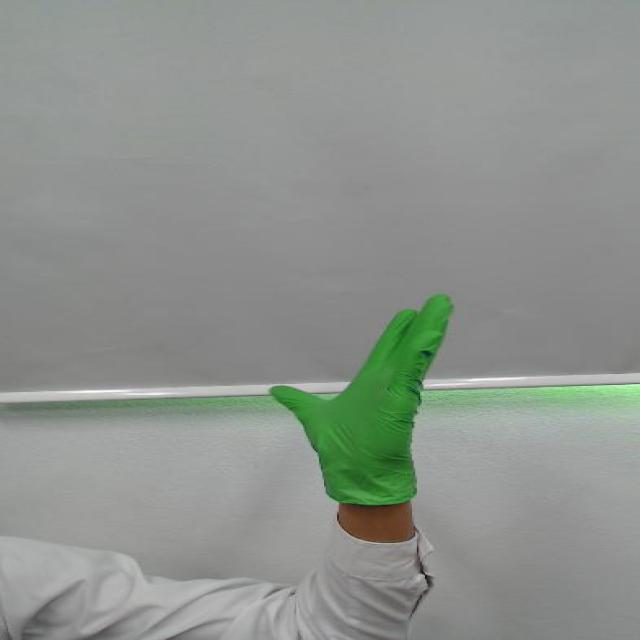gloved_hand: (267, 287, 467, 472)
